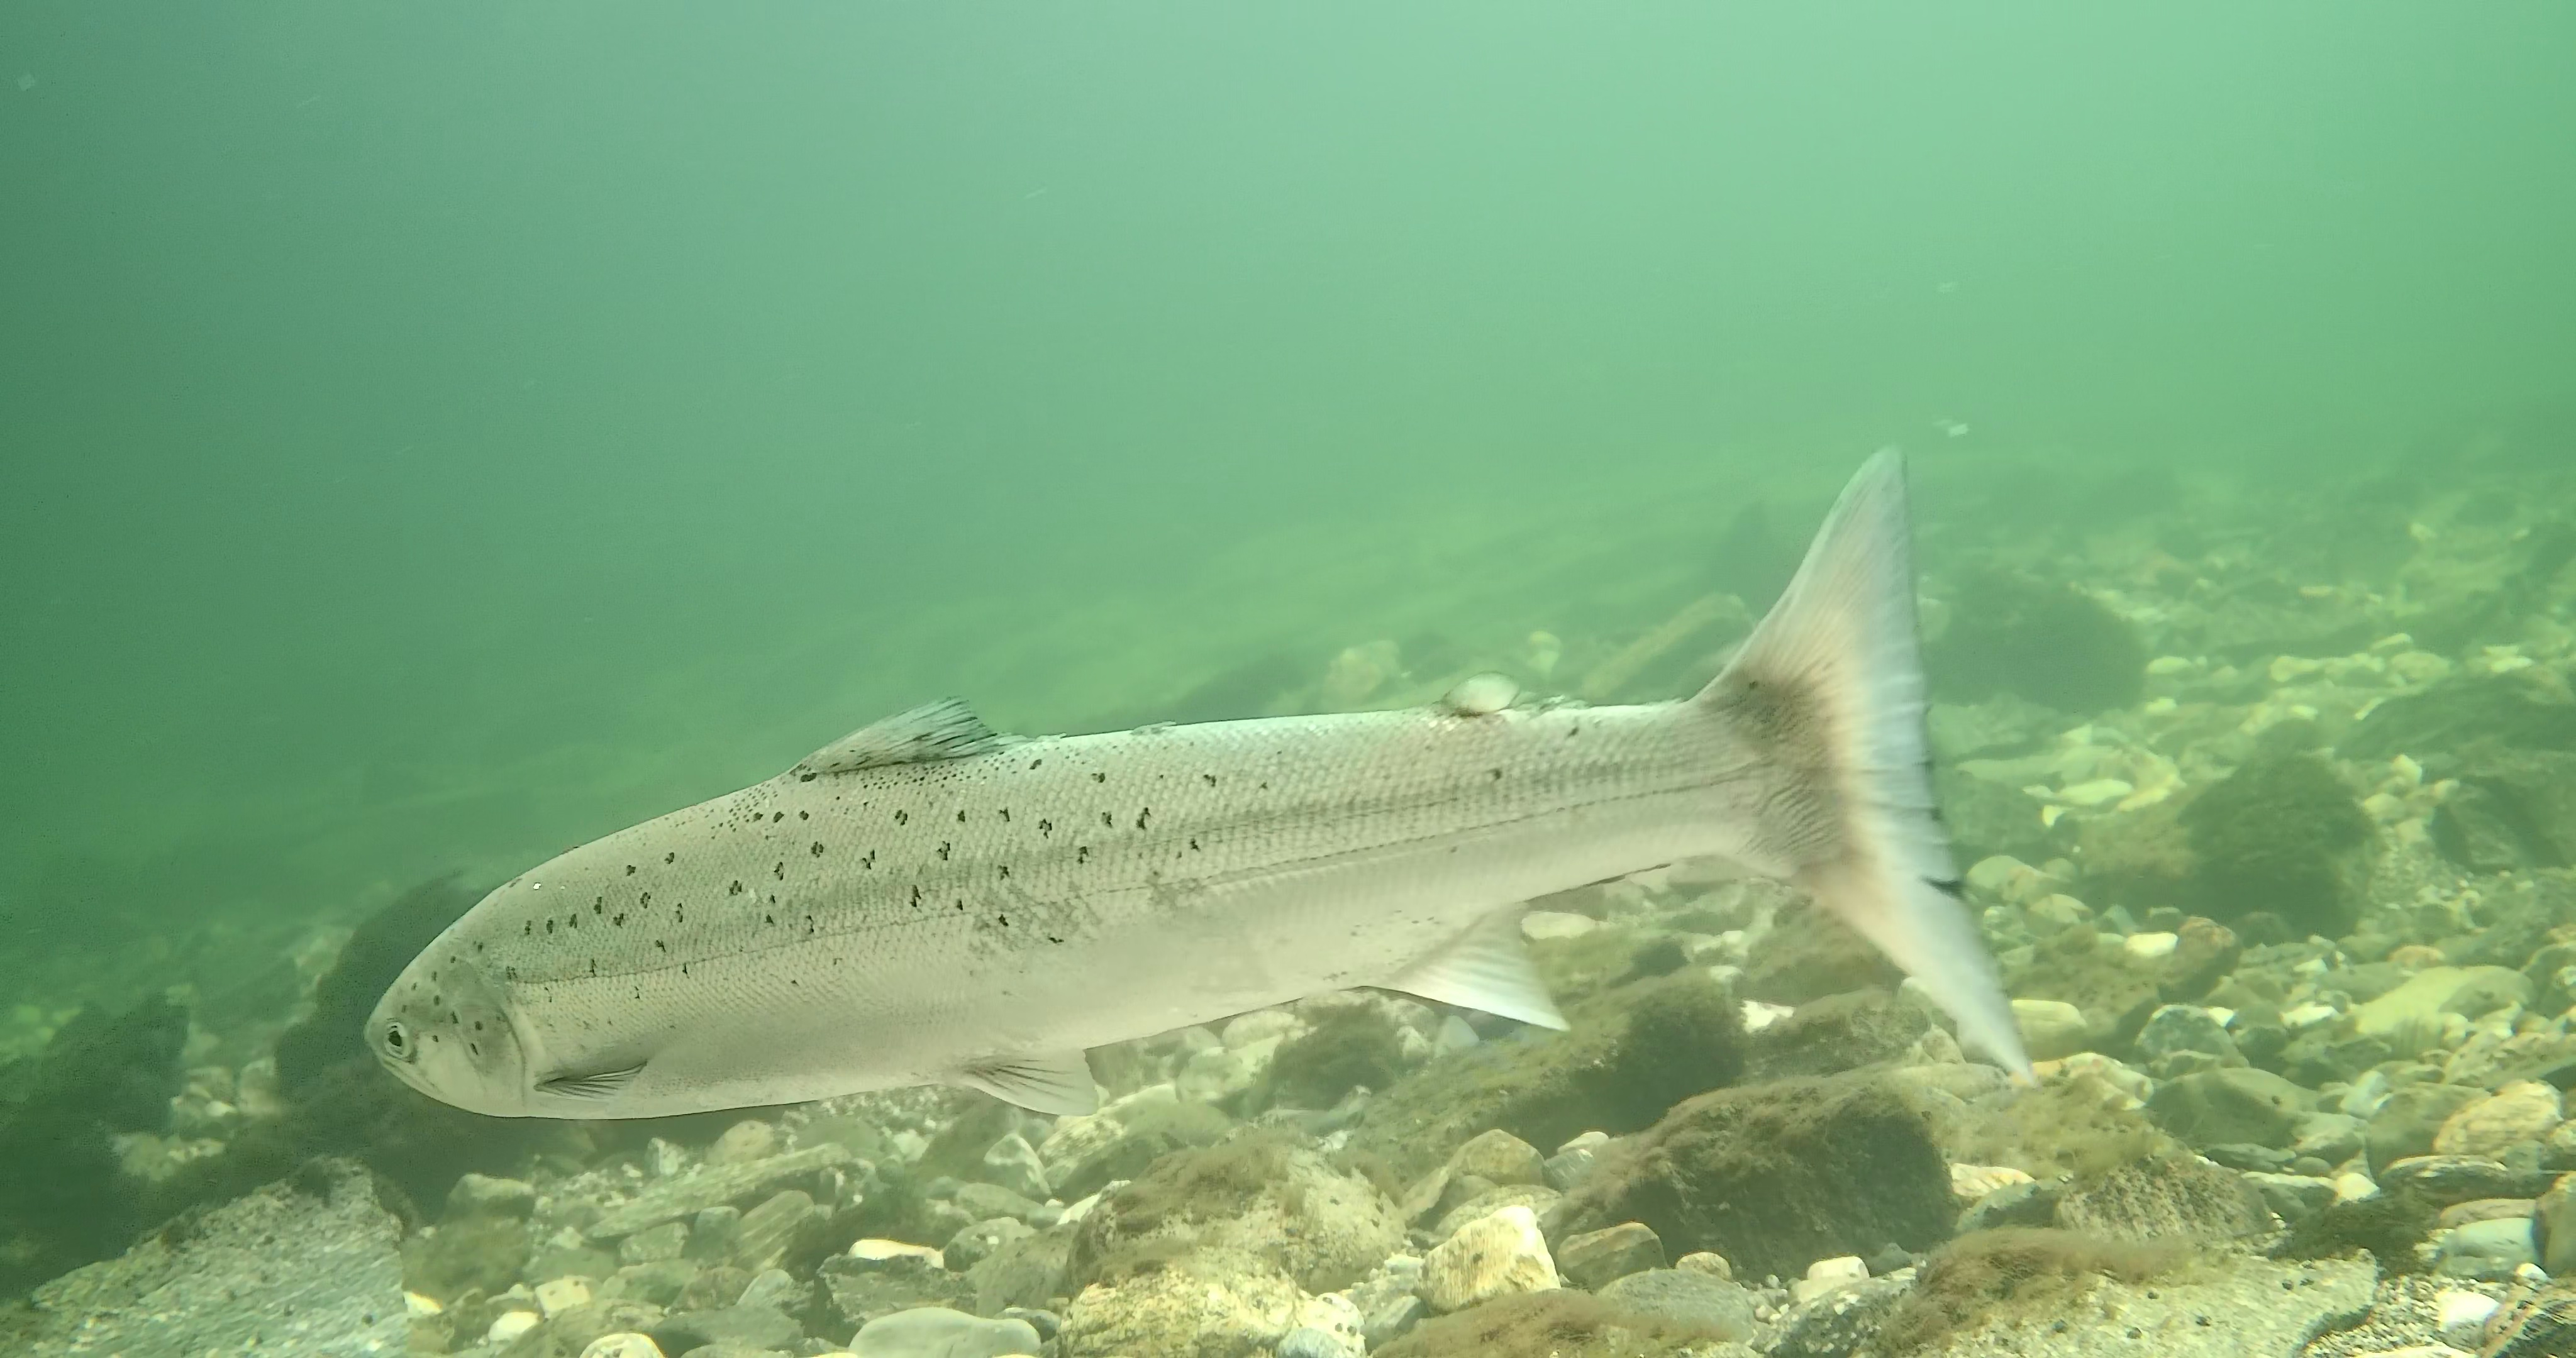salmon: (361, 440, 2046, 1123)
